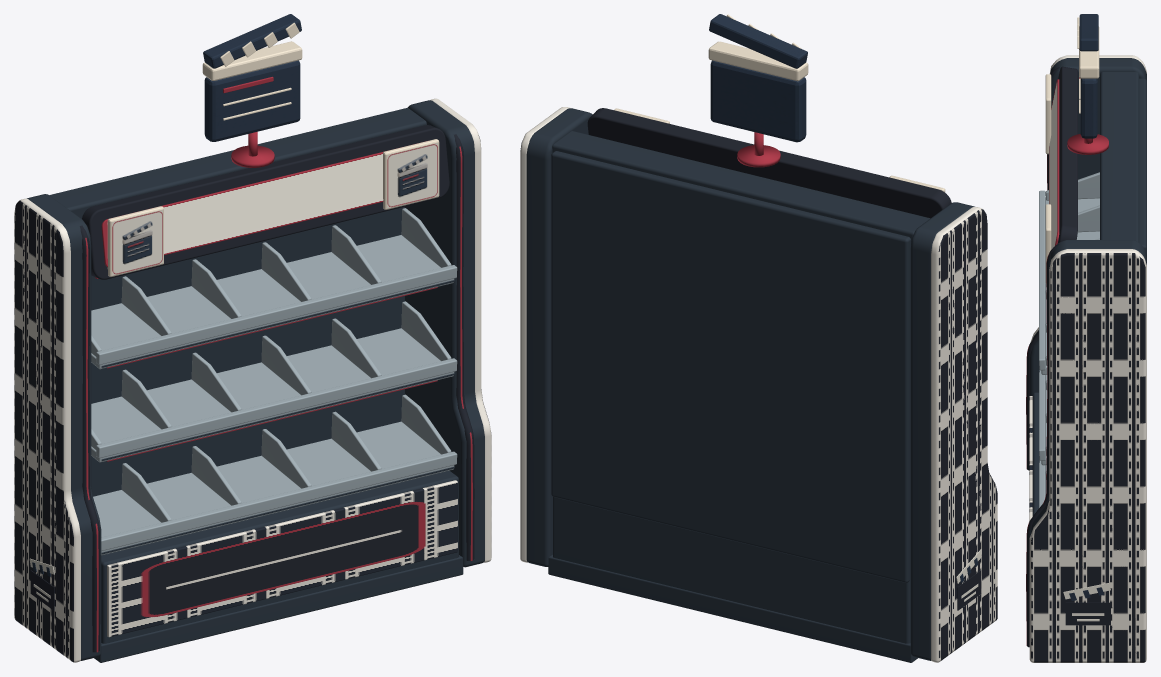
File: TH_CINEMA.fbx
3 views of the same model, side by side, from view 1: azimuth 30°, elevation 25°; view 2: azimuth 150°, elevation 25°; view 3: azimuth 270°, elevation 25° (orthographic). The views are drawn at different scales.
Parts seen in each view (by area): view 1: BaseFrontInset, Left_PaintedPanel, BackPanel.001, Right_StructuralWall, Tray_01, Tray_02, Tray_03, HeaderFace, HeaderBorder, TopCrossRail, Left_StructuralWall, ClosedSolidBase (+35 smaller); view 2: BackPanel.001, Left_PaintedPanel, ClosedSolidBase, Right_StructuralWall, HeaderBorder, Left_StructuralWall, TopCrossRail, LowerPlinth, Clapper slate, Right_PaintedPanel, Clapper raised arm, Clapper hinge (+1 smaller); view 3: Right_PaintedPanel, TopCrossRail, HeaderBorder, Left_StructuralWall, HeaderFace, RightHousing, BackPanel.001, FrontLip_01, Clapper slate, Right_StructuralWall, Relief.021, ClosedSolidBase (+15 smaller).
Part boxes in pixels (x1=…): BaseFrontInset: x1=107, y1=480, x2=457, y2=637; Left_PaintedPanel: x1=14, y1=198, x2=80, y2=662; BackPanel.001: x1=91, y1=206, x2=404, y2=496; Right_StructuralWall: x1=405, y1=100, x2=484, y2=567; Tray_01: x1=91, y1=235, x2=454, y2=369; Tray_02: x1=91, y1=328, x2=454, y2=462; Tray_03: x1=93, y1=421, x2=454, y2=555; HeaderFace: x1=101, y1=140, x2=428, y2=266; HeaderBorder: x1=82, y1=125, x2=449, y2=279; TopCrossRail: x1=49, y1=108, x2=426, y2=218; Left_StructuralWall: x1=27, y1=194, x2=101, y2=660; ClosedSolidBase: x1=101, y1=470, x2=458, y2=643; BackPanel.001: x1=551, y1=151, x2=910, y2=582; Left_PaintedPanel: x1=931, y1=207, x2=997, y2=662; ClosedSolidBase: x1=553, y1=497, x2=910, y2=643; Right_StructuralWall: x1=526, y1=108, x2=592, y2=566; HeaderBorder: x1=587, y1=108, x2=951, y2=218; Left_StructuralWall: x1=910, y1=202, x2=974, y2=660; TopCrossRail: x1=552, y1=131, x2=930, y2=244; LowerPlinth: x1=548, y1=555, x2=917, y2=662; Clapper slate: x1=710, y1=60, x2=806, y2=142; Right_PaintedPanel: x1=520, y1=107, x2=570, y2=562; Clapper raised arm: x1=709, y1=14, x2=807, y2=68; Clapper hinge: x1=708, y1=41, x2=808, y2=81; Right_PaintedPanel: x1=1029, y1=249, x2=1146, y2=662; TopCrossRail: x1=1100, y1=72, x2=1138, y2=242; HeaderBorder: x1=1057, y1=66, x2=1077, y2=243; Left_StructuralWall: x1=1029, y1=58, x2=1146, y2=395; HeaderFace: x1=1049, y1=79, x2=1059, y2=249; RightHousing: x1=1026, y1=244, x2=1059, y2=647; BackPanel.001: x1=1139, y1=78, x2=1146, y2=255; FrontLip_01: x1=1039, y1=190, x2=1045, y2=370; Clapper slate: x1=1080, y1=78, x2=1097, y2=138; Right_StructuralWall: x1=1029, y1=240, x2=1146, y2=537; Relief.021: x1=1065, y1=602, x2=1110, y2=625; ClosedSolidBase: x1=1032, y1=392, x2=1038, y2=516.
Size of the model in its own units: 3.62 by 4.68 by 0.9273.
